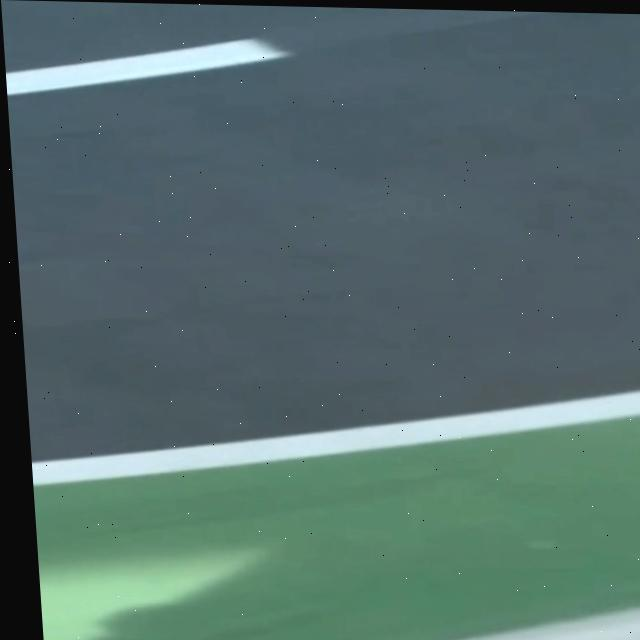center: (5, 40, 289, 95)
right: (31, 390, 640, 485)
